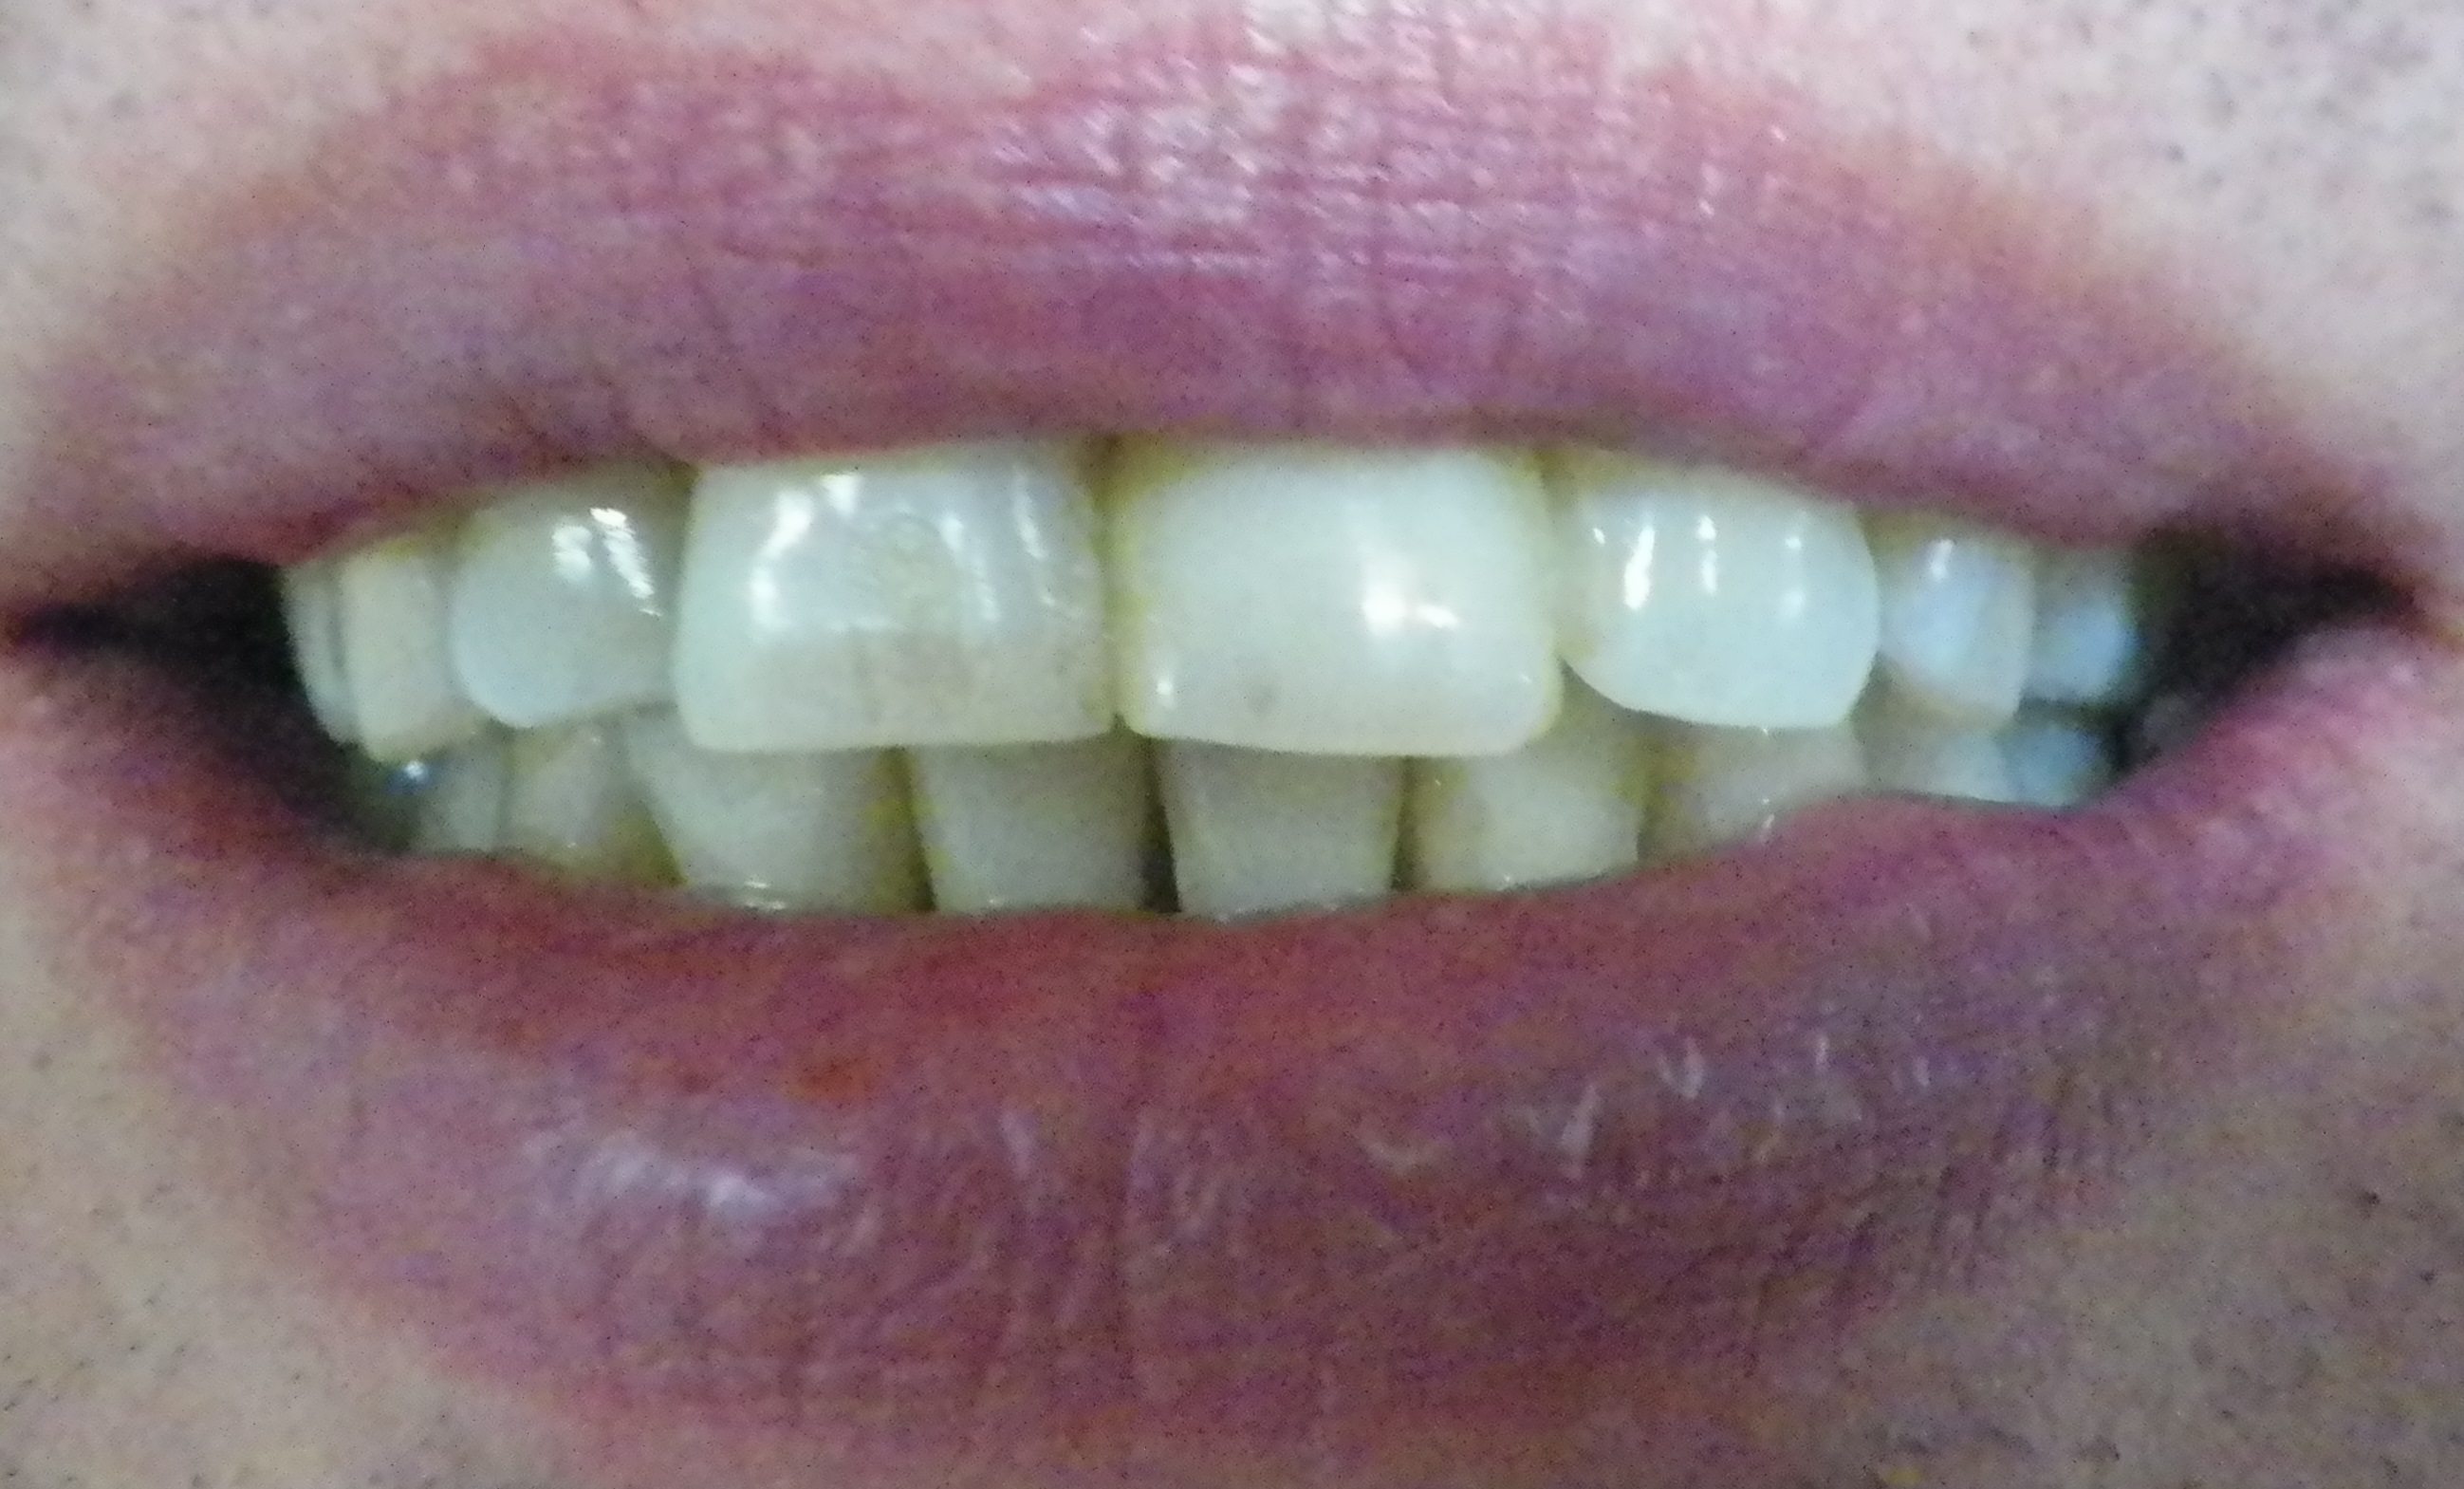boca: (280, 459, 2188, 922)
